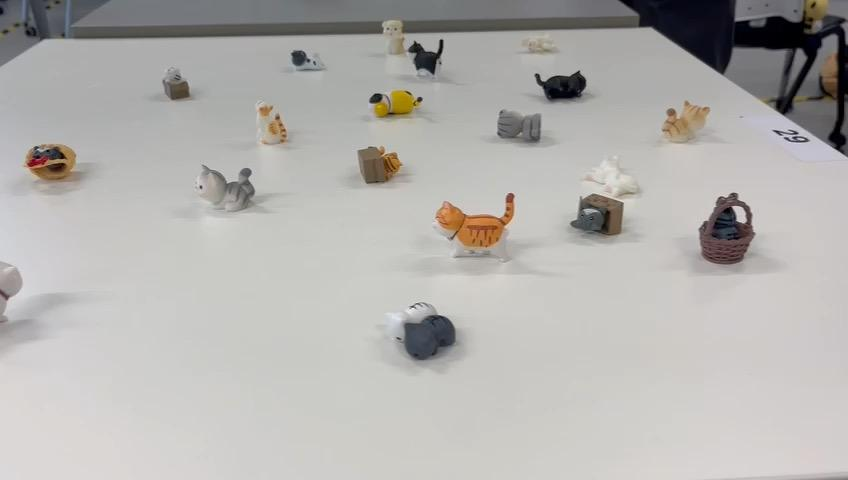pet: (691, 181, 780, 300), (410, 180, 530, 262), (386, 285, 477, 385), (183, 158, 290, 236), (558, 189, 630, 273), (26, 111, 86, 205), (353, 78, 457, 132), (483, 103, 572, 159), (271, 26, 345, 91), (658, 88, 730, 152), (148, 46, 205, 121), (341, 138, 422, 188), (513, 66, 611, 99), (248, 91, 302, 149), (403, 41, 467, 82)
